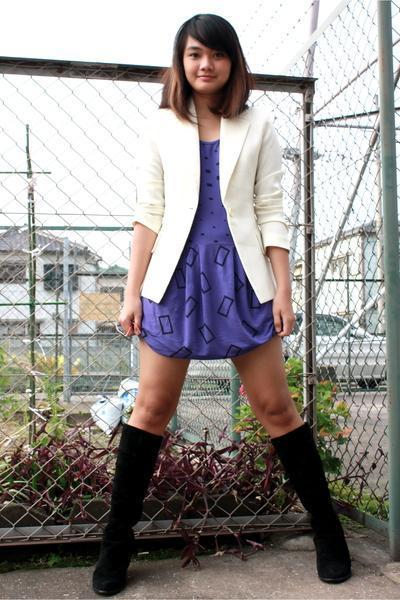dress: (122, 139, 275, 371)
jacket: (140, 90, 299, 302)
shoe: (85, 420, 347, 596)
